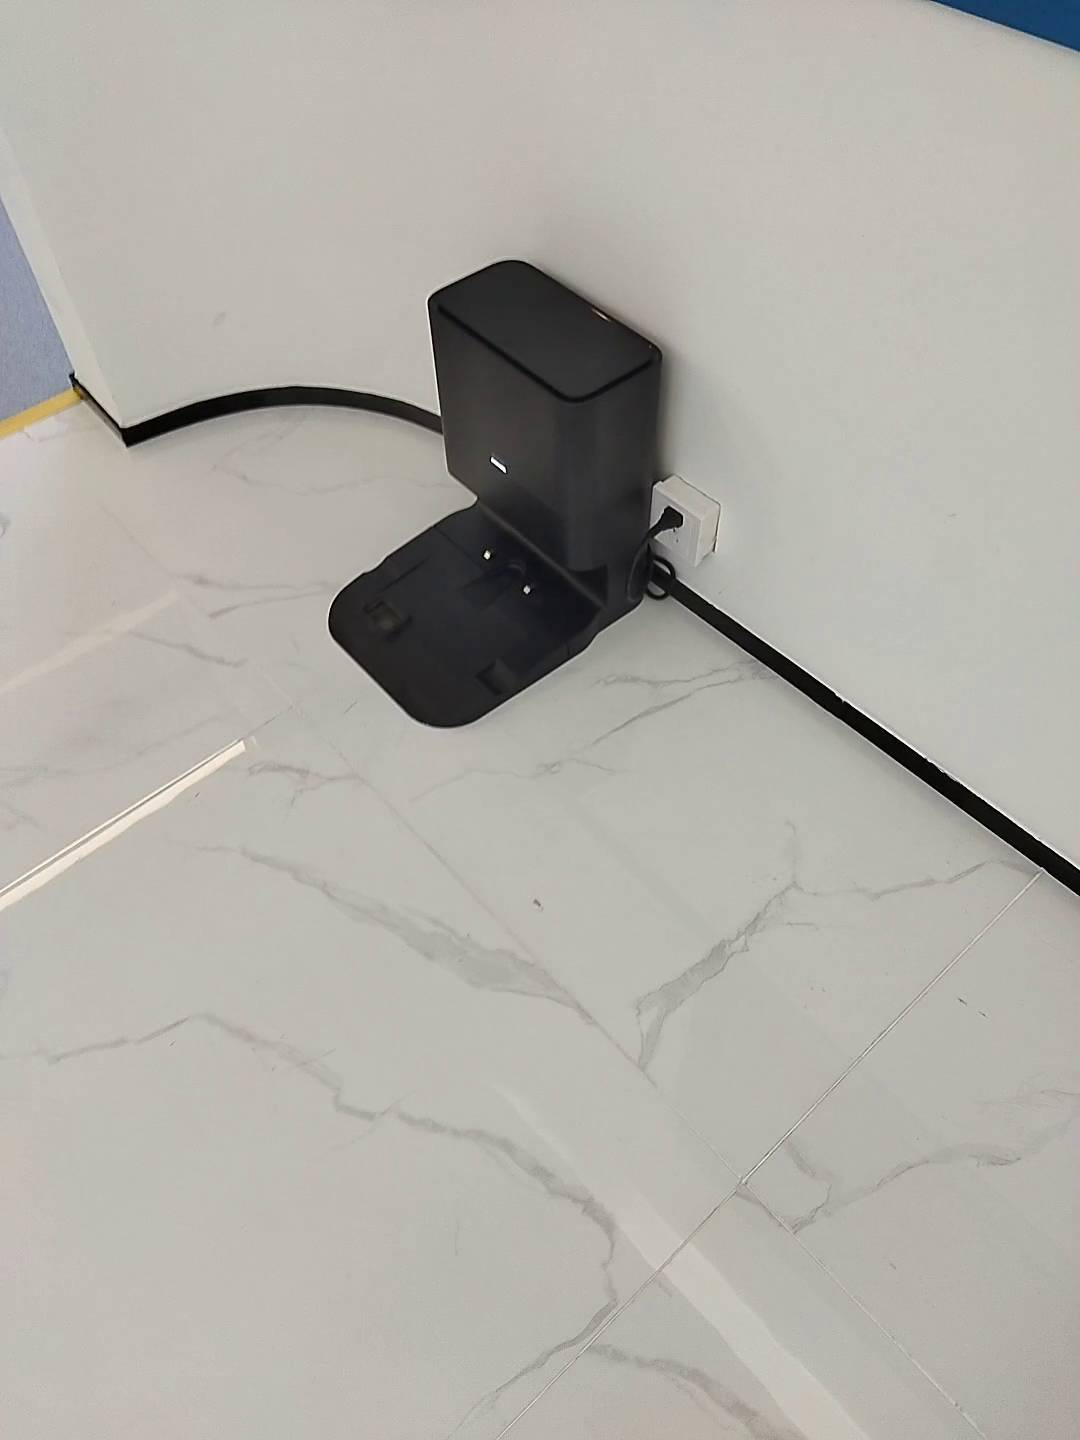dust collecting barrel: (326, 259, 663, 728)
